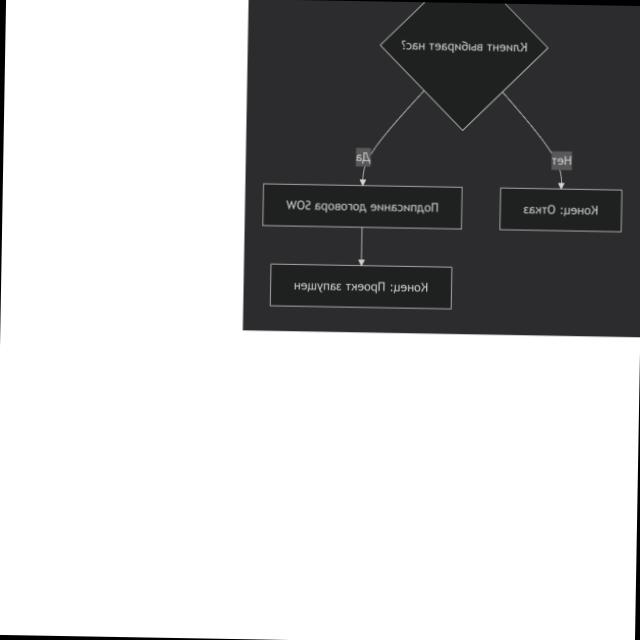arrow: (501, 91, 567, 188), (358, 89, 424, 186), (356, 227, 367, 265)
rectangle: (262, 182, 462, 229), (270, 263, 452, 310), (499, 187, 621, 232)
text_region: (551, 154, 571, 167), (356, 150, 371, 165)
